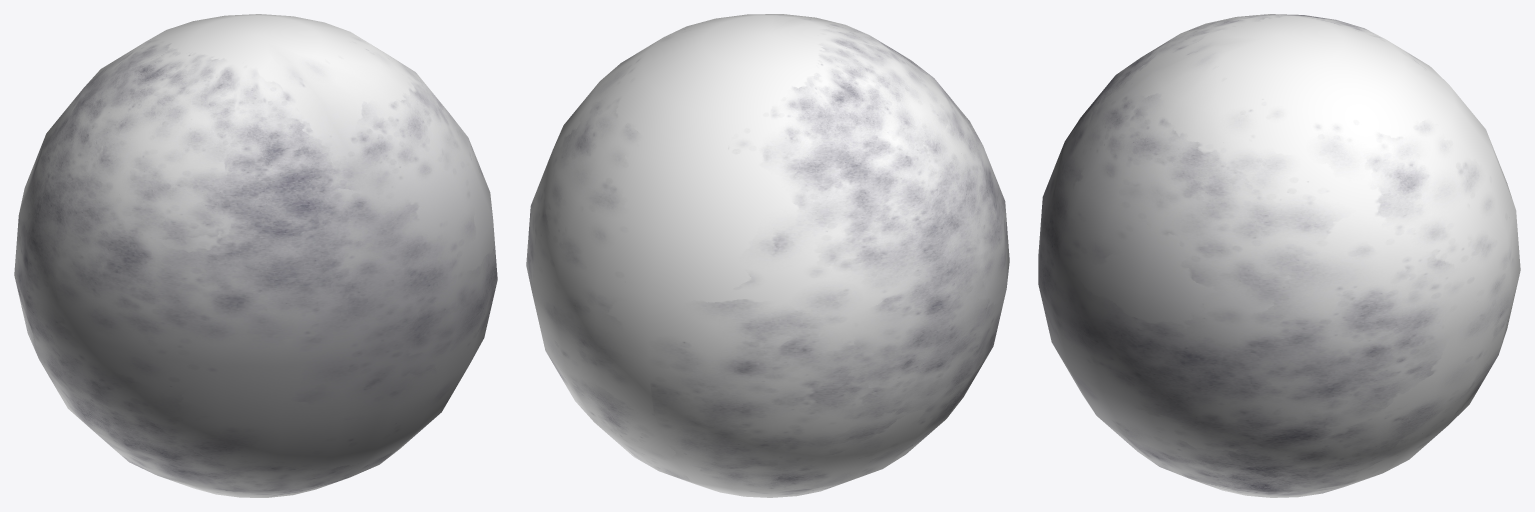
The model's file is Moon.FBX.
3 renders of one model, left to right at view 1: azimuth 30°, elevation 25°; view 2: azimuth 150°, elevation 25°; view 3: azimuth 270°, elevation 25°, orthographic.
Visible parts, largest first — view 1: Sphere002; view 2: Sphere002; view 3: Sphere002.
Boxes of the visible parts, x1,y1,x2,y2 form: Sphere002: (14,14,497,497); Sphere002: (526,14,1009,497); Sphere002: (1038,14,1520,497).
Size of the model in its own units: 5517 by 5542 by 5504.
